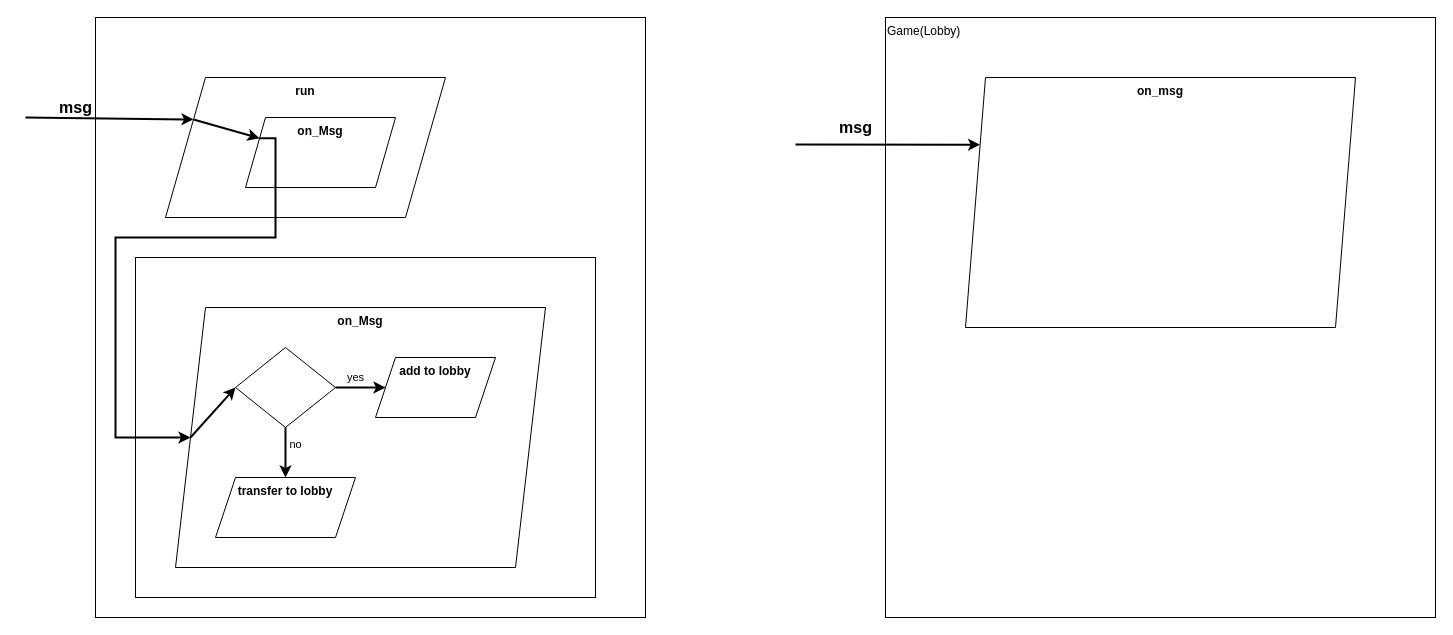
This 1453x635 diagram has some shape labels left out. The box of each missing label's shape, as (x1, y1, x2, y2) in pixels:
Action = ask to play ?: (234, 346, 336, 428)
Lobbies_Manager: (134, 256, 596, 598)
Server: (94, 16, 646, 618)
